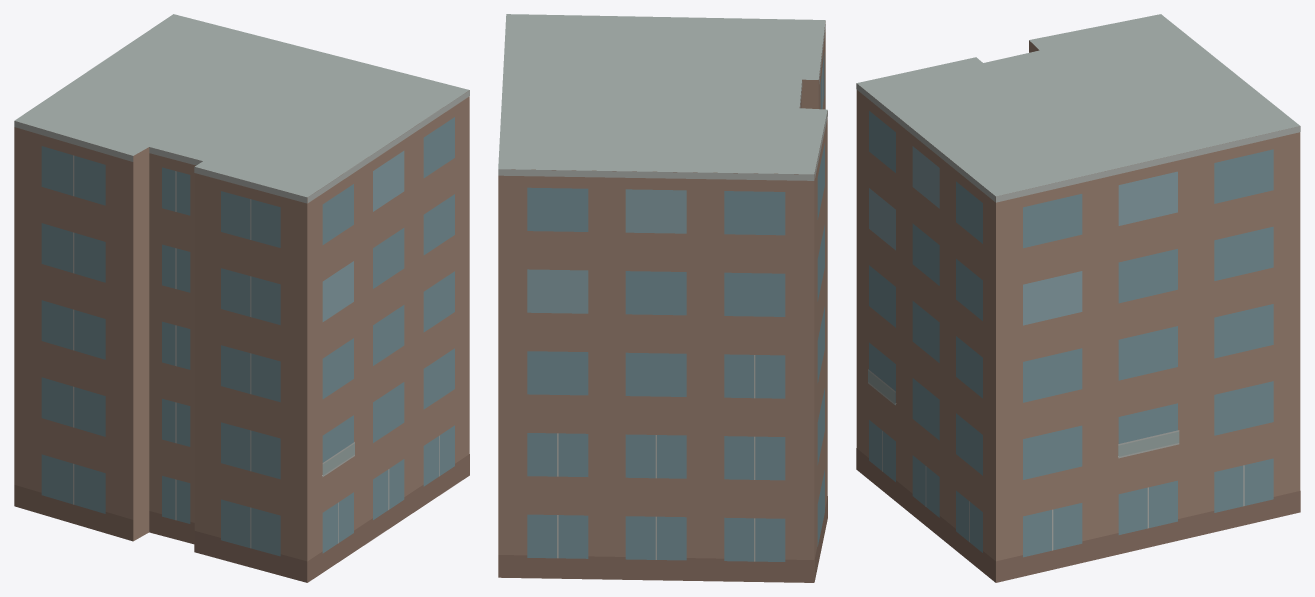
Rendered from survey-upis-32768298.glb.
3 views of the same model, side by side, from view 1: azimuth 30°, elevation 25°; view 2: azimuth 150°, elevation 25°; view 3: azimuth 270°, elevation 25° (orthographic). The views are drawn at different scales.
Parts seen in each view (by area): view 1: survey-upis-32768298.tmp; view 2: survey-upis-32768298.tmp; view 3: survey-upis-32768298.tmp.
Part boxes in pixels (bbox=[...]): survey-upis-32768298.tmp: bbox=[14, 14, 469, 582]; survey-upis-32768298.tmp: bbox=[498, 14, 827, 582]; survey-upis-32768298.tmp: bbox=[856, 14, 1300, 582].
Size of the model in its own units: 15.41 by 15.2 by 15.84.
